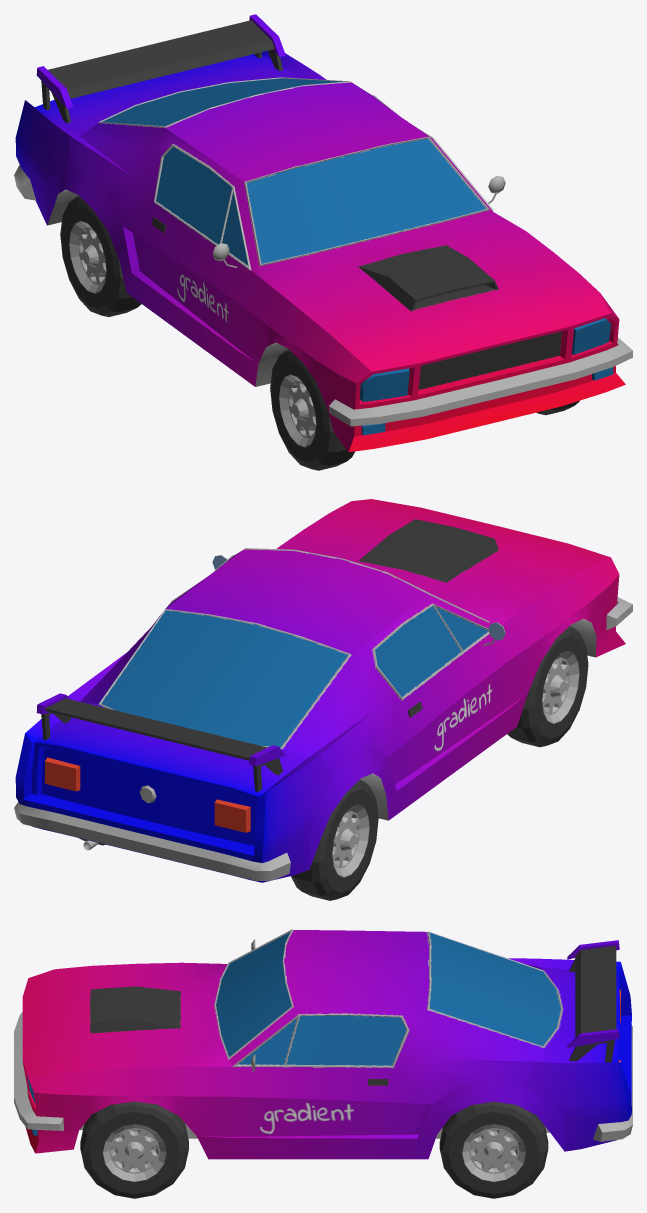
File: purple.fbx
3 renders of one model, top to bottom at view 1: azimuth 30°, elevation 25°; view 2: azimuth 150°, elevation 25°; view 3: azimuth 270°, elevation 25°, orthographic. The views are drawn at different scales.
Visible parts, largest first — view 1: body, bodypart_up, wheel_FR, wheel_RR, bodypart_right; view 2: body, bodypart_down, bodypart_up, bodypart_right, wheel_RR, wheel_FR, bodypart_left; view 3: body, wheel_FL, wheel_RL, bodypart_up, bodypart_left, bodypart_down, bodypart_right.
Boxes of the visible parts, bbox=[...] form: body: bbox=[45, 75, 632, 452]; bodypart_up: bbox=[35, 14, 302, 136]; wheel_FR: bbox=[270, 349, 354, 470]; wheel_RR: bbox=[60, 196, 141, 316]; bodypart_right: bbox=[15, 100, 79, 224]; body: bbox=[70, 499, 632, 869]; bodypart_down: bbox=[14, 748, 290, 880]; bodypart_up: bbox=[35, 693, 307, 799]; bodypart_right: bbox=[250, 755, 333, 882]; wheel_RR: bbox=[291, 780, 378, 900]; wheel_FR: bbox=[507, 626, 588, 747]; bodypart_left: bbox=[15, 695, 78, 829]; body: bbox=[14, 929, 564, 1159]; wheel_FL: bbox=[80, 1101, 188, 1198]; wheel_RL: bbox=[439, 1101, 548, 1198]; bodypart_up: bbox=[538, 940, 619, 1063]; bodypart_left: bbox=[524, 1062, 631, 1151]; bodypart_down: bbox=[593, 989, 632, 1141]; bodypart_right: bbox=[536, 958, 631, 1017].
Bounding box in the file's own units: 272 × 193 × 581.
